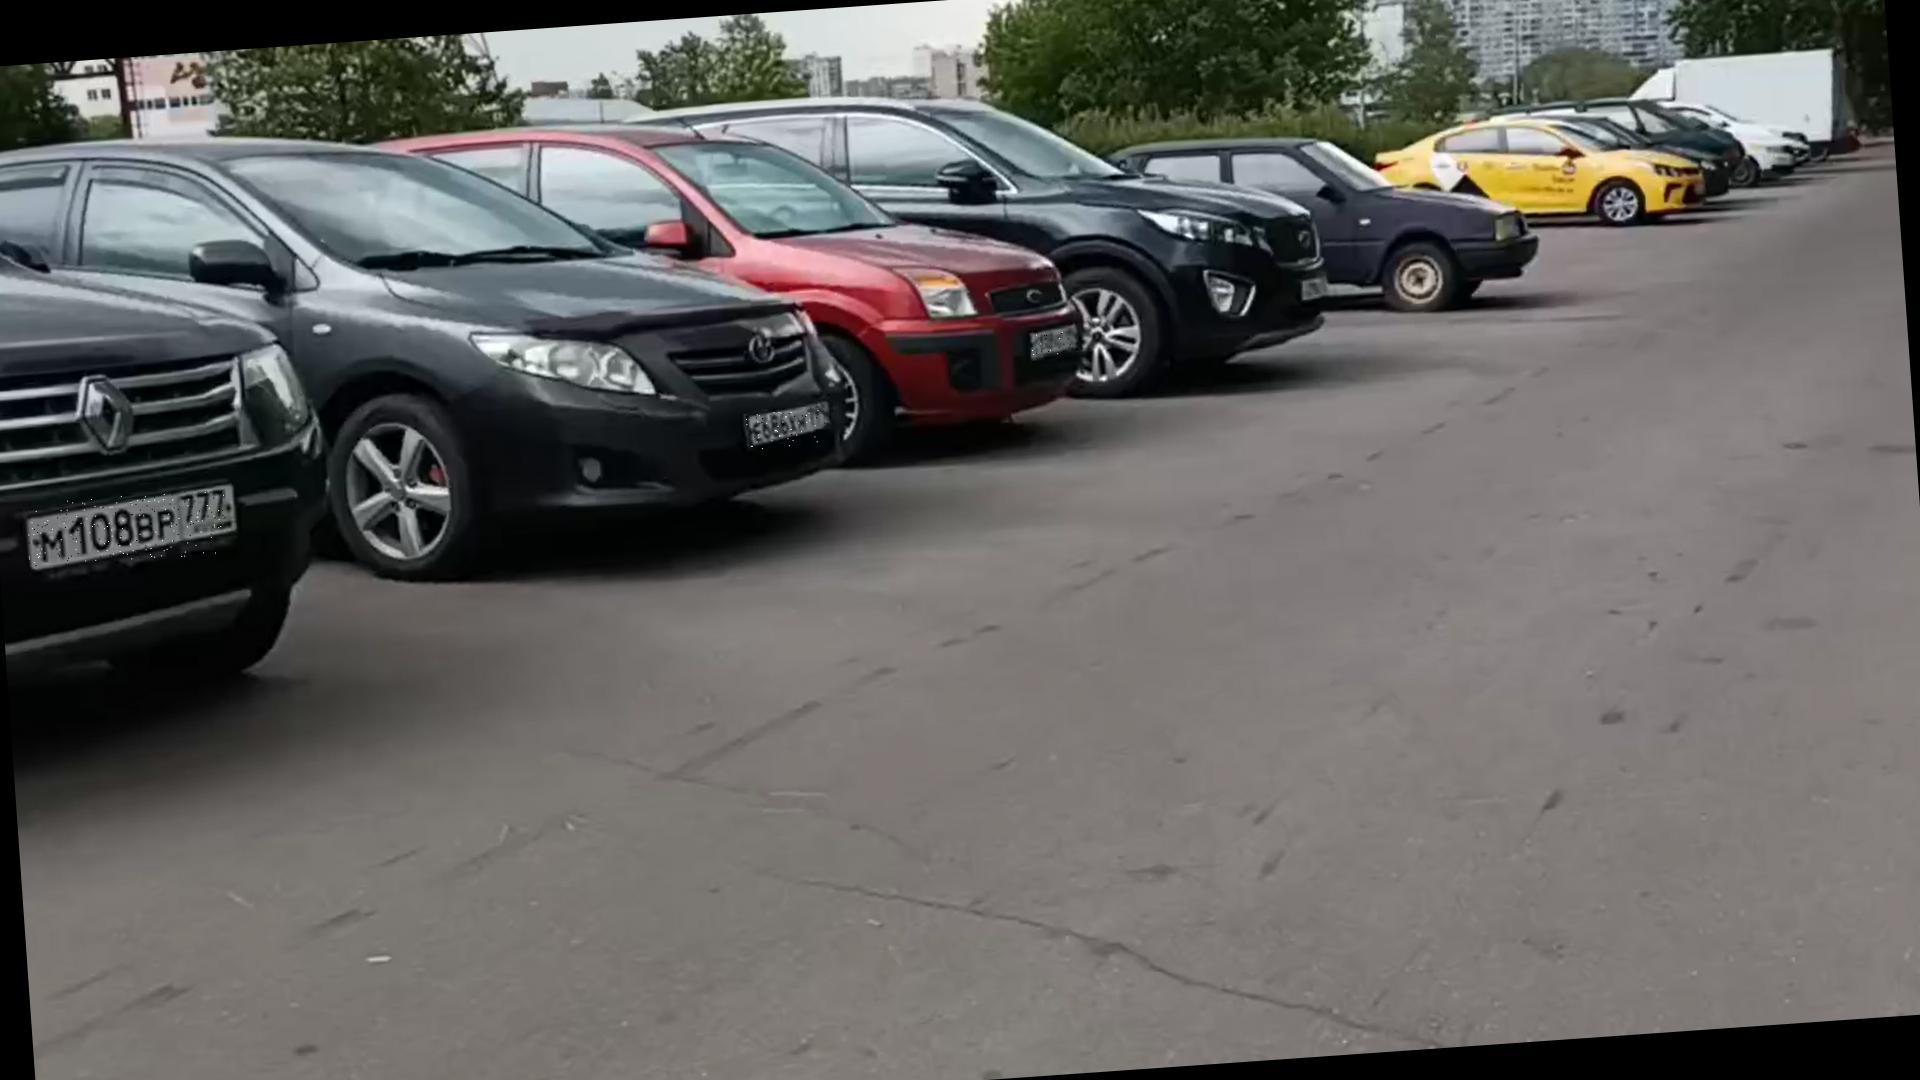plate: (24, 490, 230, 569), (747, 409, 833, 451), (1029, 333, 1076, 358)
